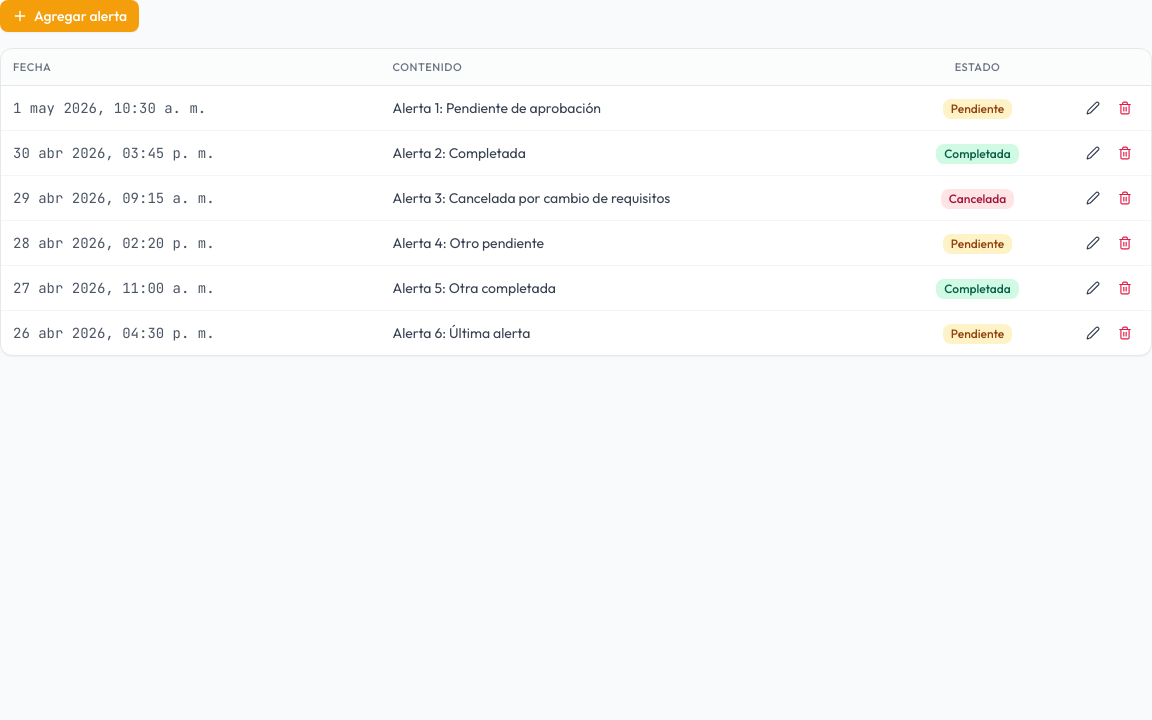
it: AlertasTab › abre modal con datos al hacer clic en botón Editar
Expected: the text "Alerta 1: Pendiente de aprobación" is shown, [380, 86, 888, 130]
Click the button named "Editar" in the row of "1 may 2026, 10:30 a. m.": coordinates (1093, 108) [1079, 94, 1107, 122]
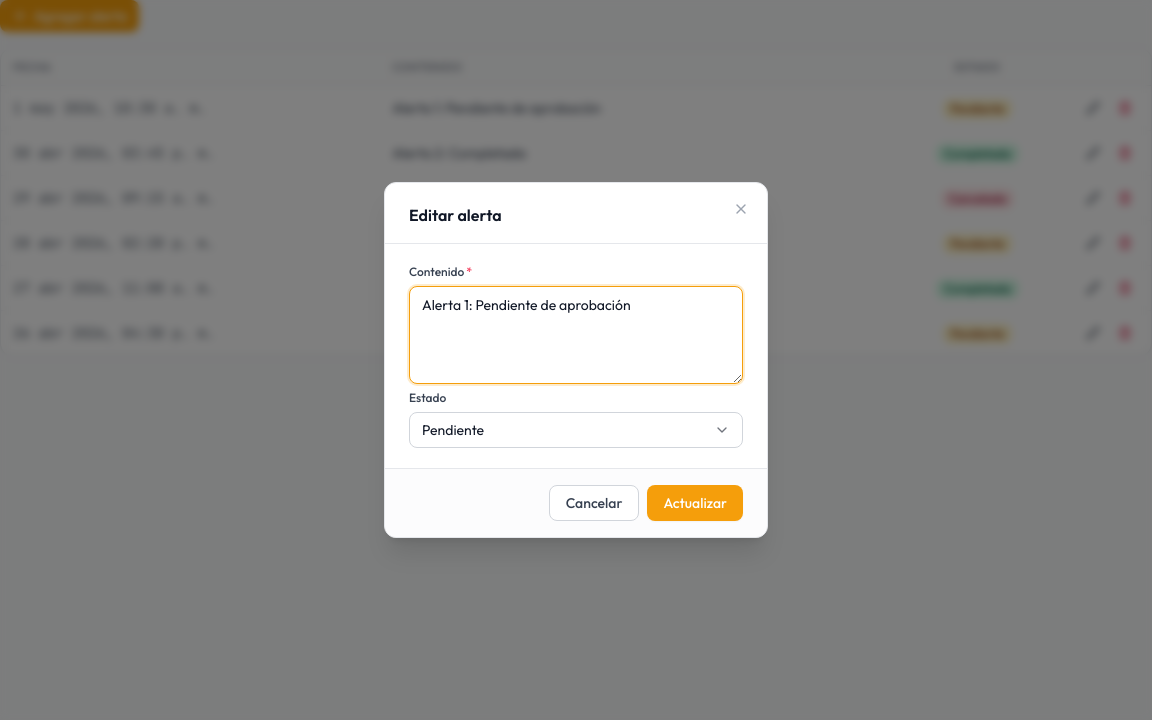
Now the heading "Editar alerta" is shown, box [409, 205, 502, 225]
Now the text box showing "Alerta 1: Pendiente de aprobación" is shown, box [409, 286, 743, 384]
